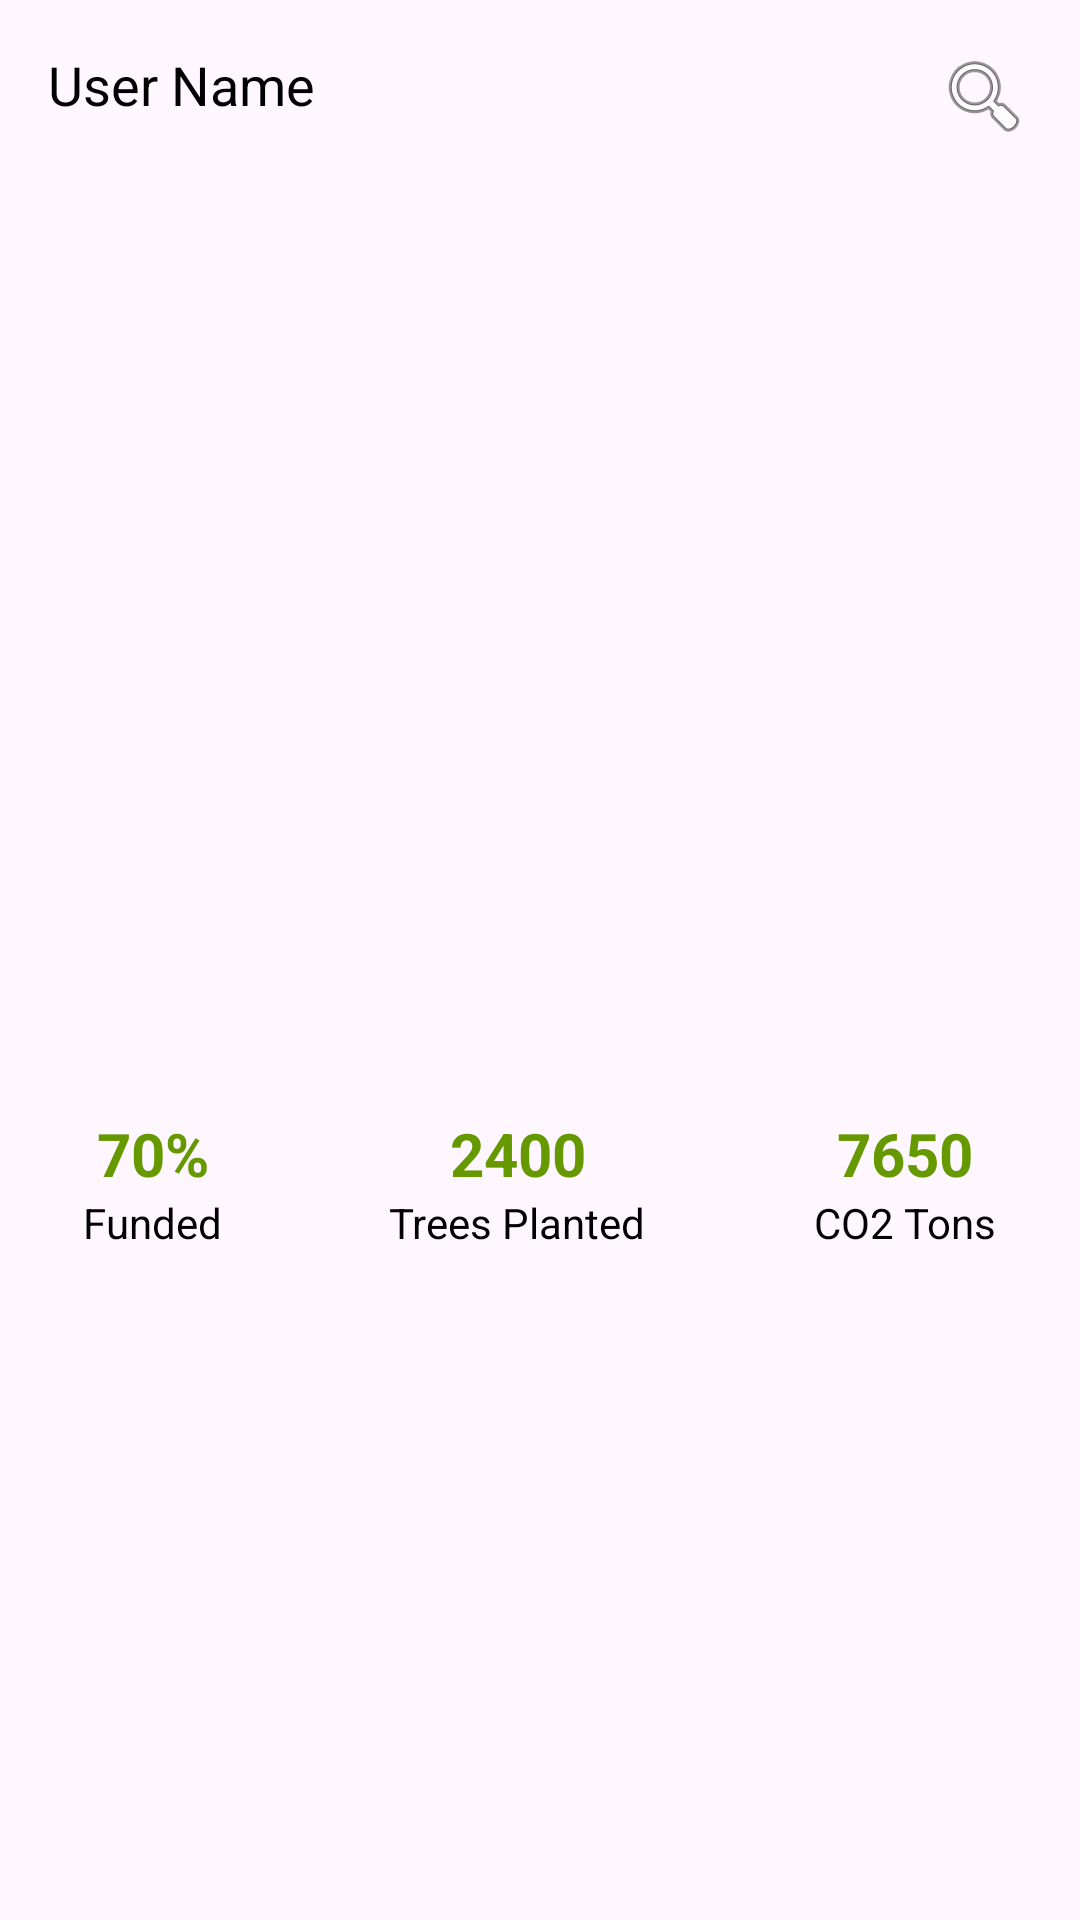

Icons on this 1080x1920 Android screen, each with the point to tap as (x,y):
search: (984,96)
